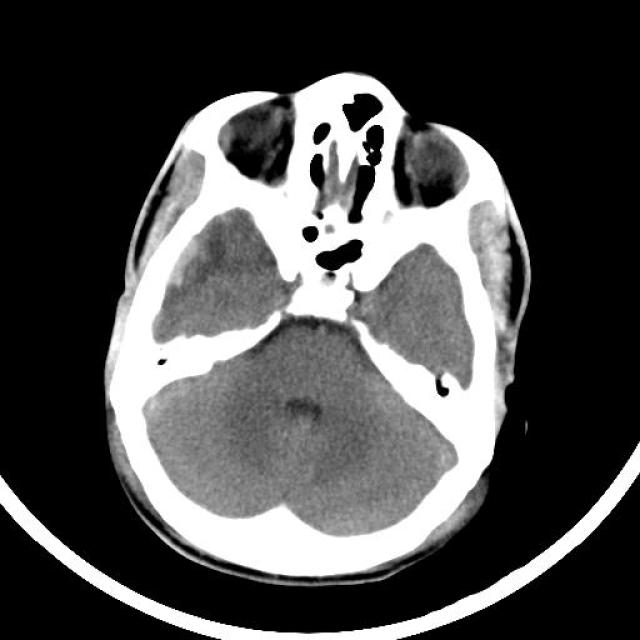Subdural: (141, 222, 220, 316)
